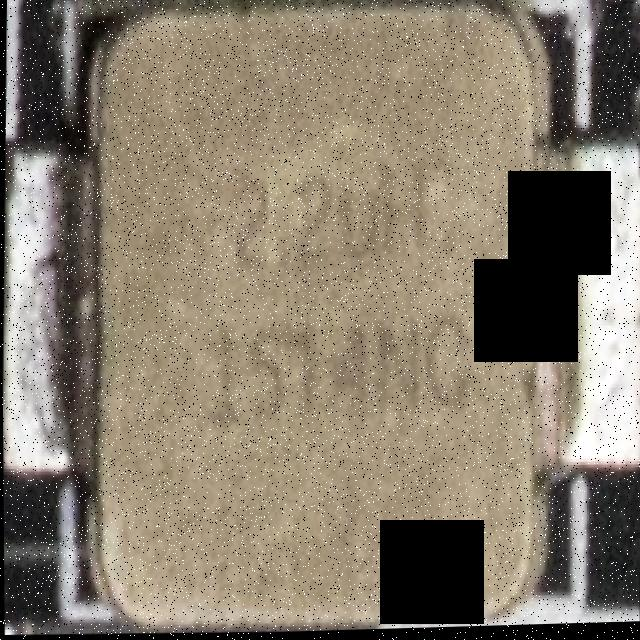inductor F1: (42, 0, 566, 625)
